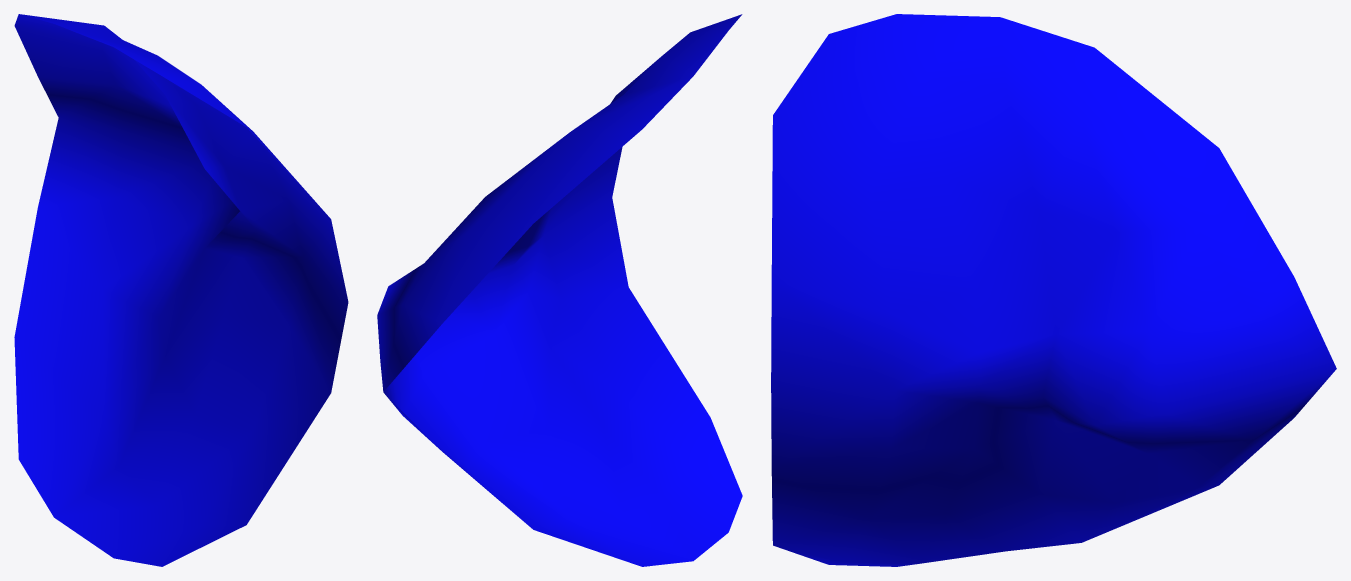
3 views of the same model, side by side, from view 1: azimuth 30°, elevation 25°; view 2: azimuth 150°, elevation 25°; view 3: azimuth 270°, elevation 25° (orthographic). The views are drawn at different scales.
Visible parts, largest first — view 1: ka_face_001; view 2: ka_face_001; view 3: ka_face_001.
Boxes of the visible parts, x1=… form: ka_face_001: x1=14, y1=14, x2=348, y2=566; ka_face_001: x1=377, y1=14, x2=742, y2=566; ka_face_001: x1=771, y1=14, x2=1336, y2=566.
Bounding box in the file's own units: 14.89 × 27.25 × 25.27.
